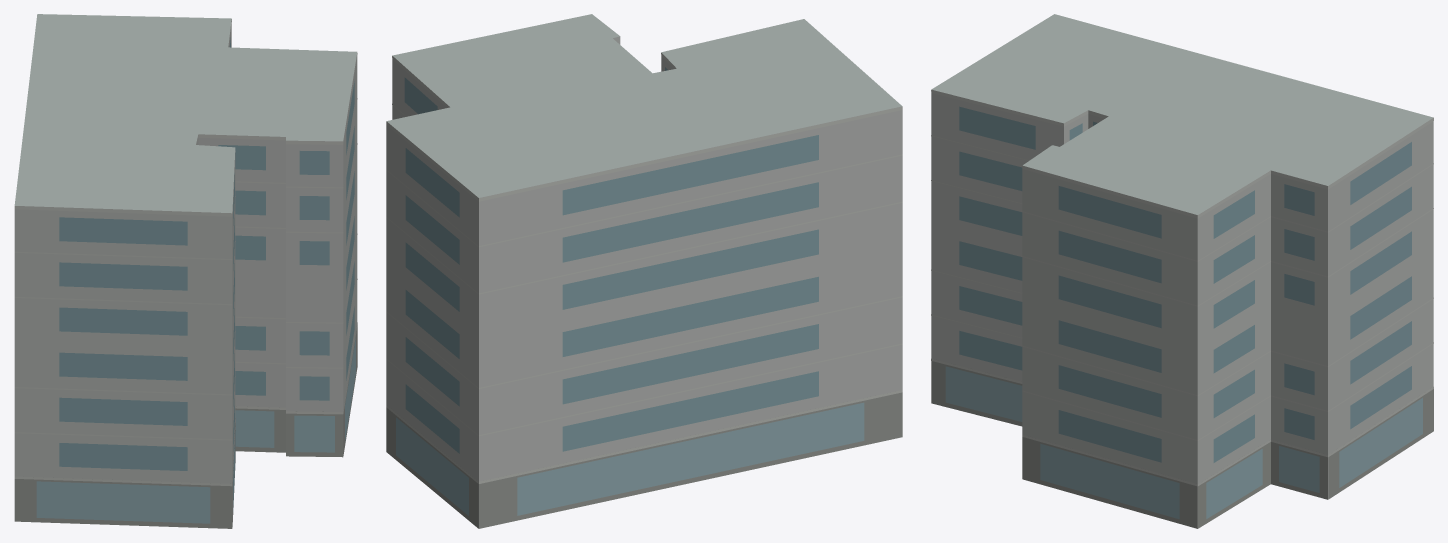
Rendered from survey-upis-32949787.glb.
3 renders of one model, left to right at view 1: azimuth 30°, elevation 25°; view 2: azimuth 150°, elevation 25°; view 3: azimuth 270°, elevation 25°, orthographic. The views are drawn at different scales.
Visible parts, largest first — view 1: survey-upis-32949787.tmp; view 2: survey-upis-32949787.tmp; view 3: survey-upis-32949787.tmp.
Boxes of the visible parts, x1,y1,x2,y2 form: survey-upis-32949787.tmp: [14, 14, 357, 528]; survey-upis-32949787.tmp: [386, 14, 902, 528]; survey-upis-32949787.tmp: [931, 14, 1433, 528].
Size of the model in its own units: 30 by 21.8 by 31.67.
